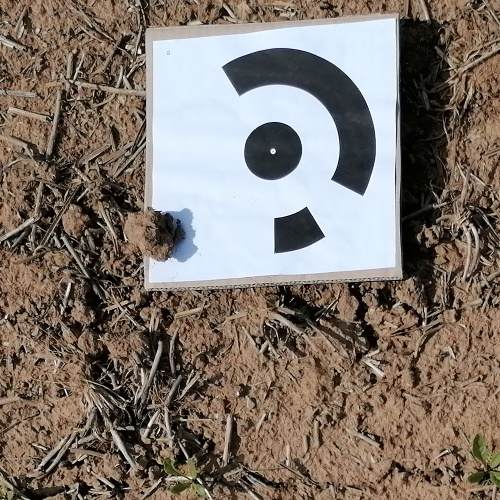beet: (164, 456, 212, 499), (465, 433, 500, 487)
